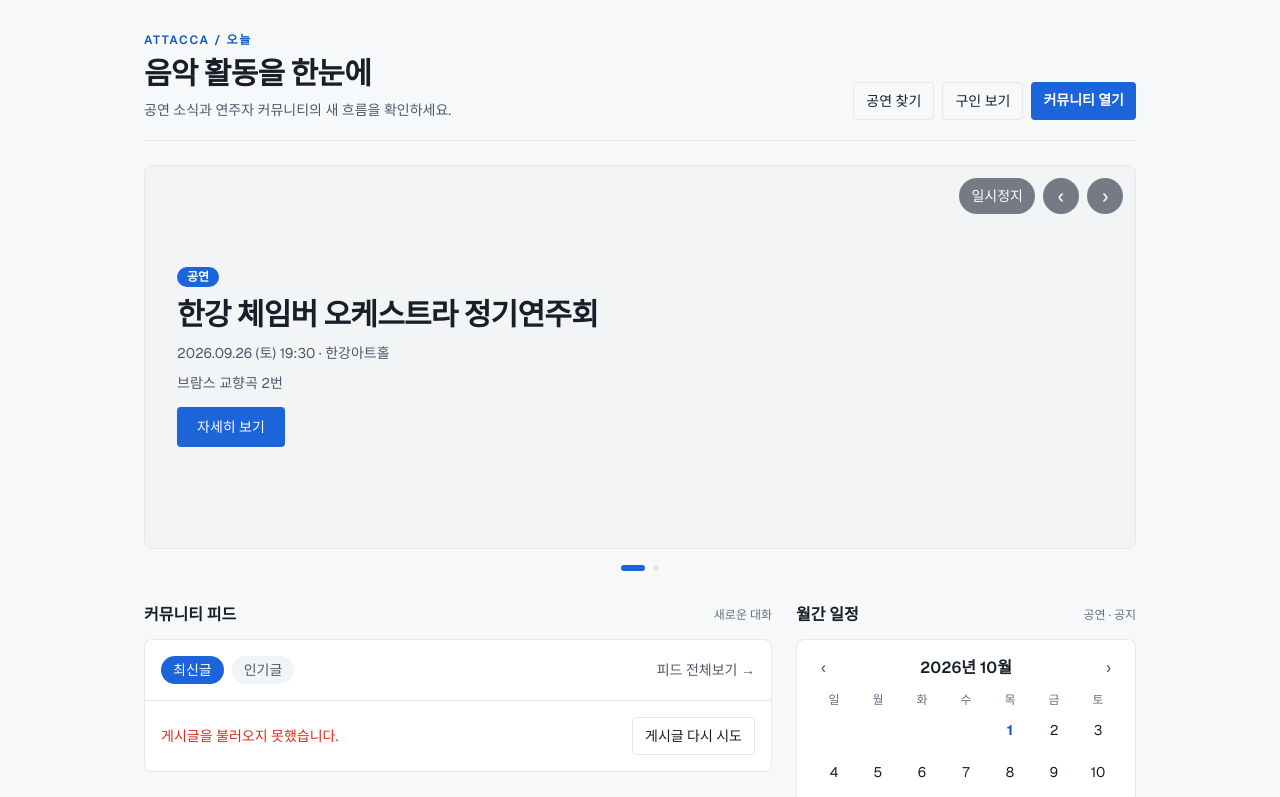
Scenario: 홈 › 게시글 조회 실패를 빈 상태와 구분하고 재시도할 수 있다
The width and height of the screenshot is (1280, 797).
Expected: the text "게시글을 불러오지 못했습니다." is shown, [161,726,338,746]
Click the button "게시글 다시 시도": {"x": 694, "y": 736} [632,717,755,755]
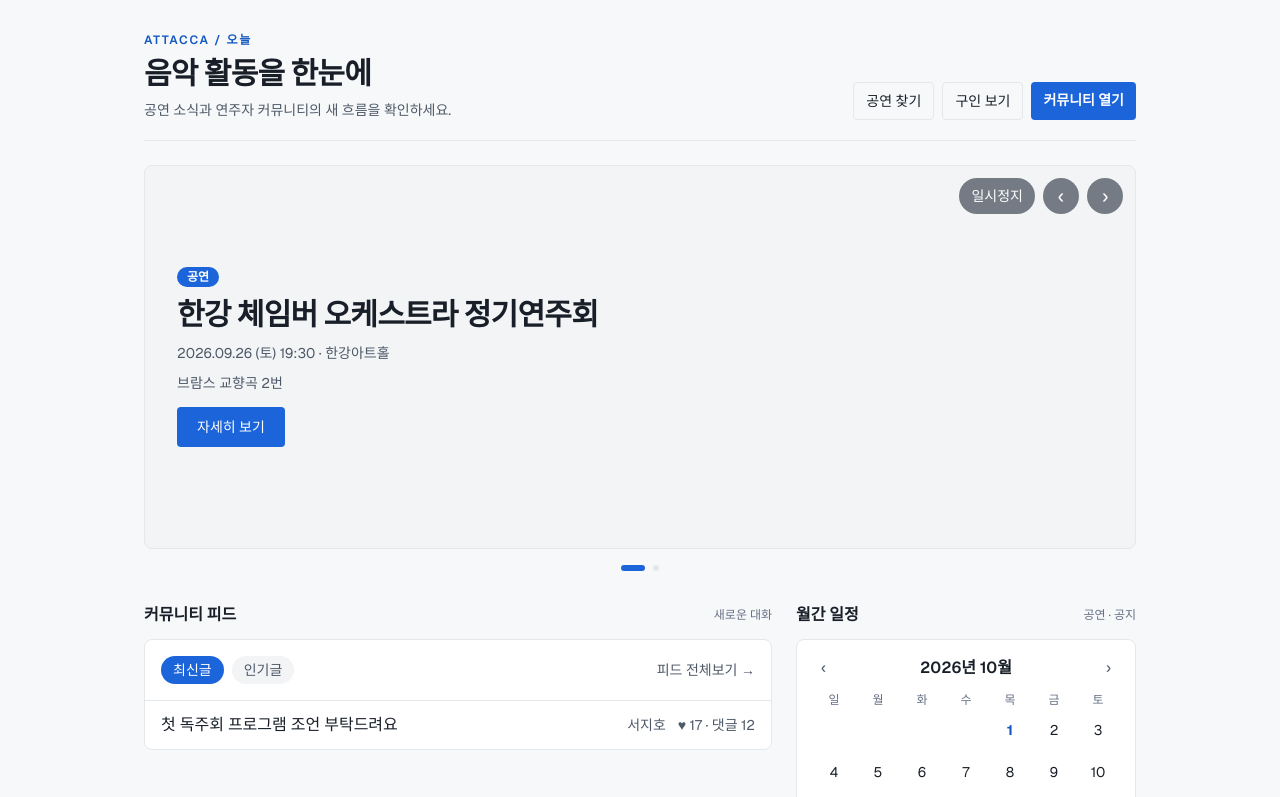
Now the text "첫 독주회 프로그램 조언 부탁드려요" is shown, box [161,714,398,735]
